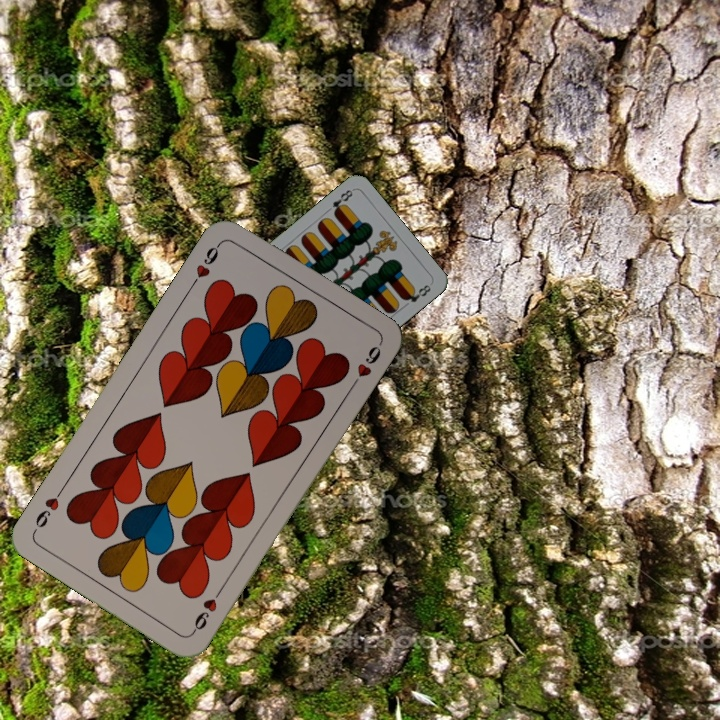E8: (328, 185, 355, 218)
H9: (188, 584, 226, 636), (186, 238, 224, 290)
